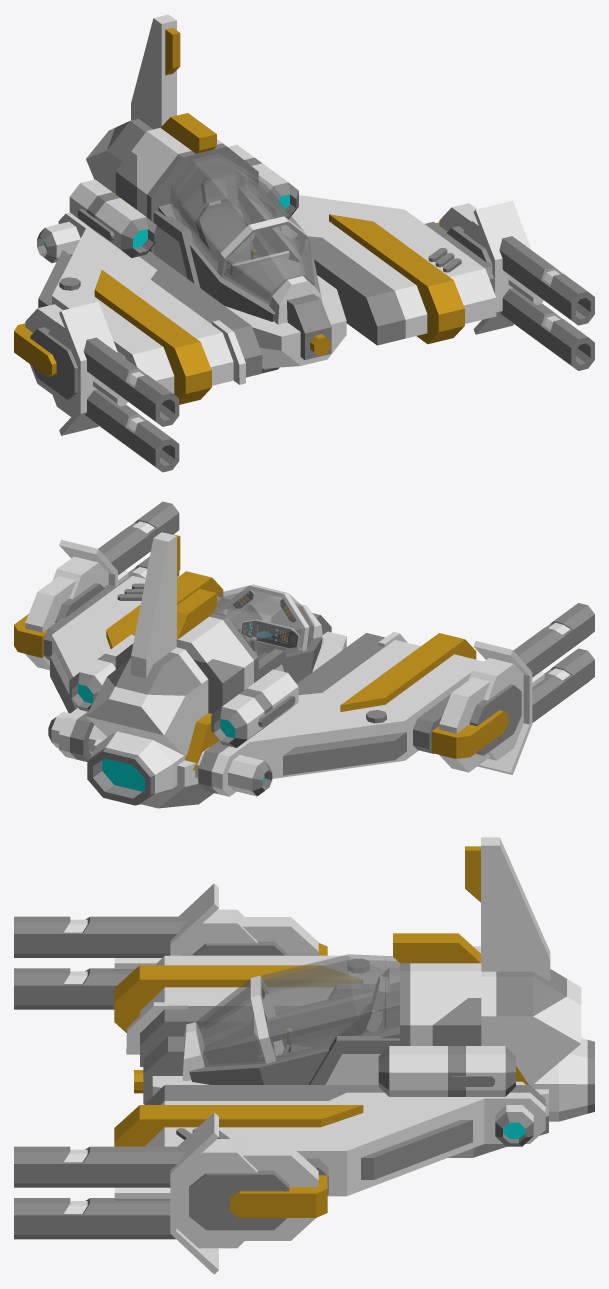
Rendered from SM_SpaceshipS_Assault02.fbx.
3 views of the same model, one above another, from view 1: azimuth 30°, elevation 25°; view 2: azimuth 150°, elevation 25°; view 3: azimuth 270°, elevation 25° (orthographic). The views are drawn at different scales.
Parts seen in each view (by area): view 1: SM_SpaceshipS_Assault02, SM_SpaceshipS_Assault02_R_Cannon, SM_SpaceshipS_Assault02_L_Cannon, SM_SpaceshipS_Assault02_Cockpit; view 2: SM_SpaceshipS_Assault02, SM_SpaceshipS_Assault02_R_Cannon, SM_SpaceshipS_Assault02_L_Cannon, SM_SpaceshipS_Assault02_Cockpit; view 3: SM_SpaceshipS_Assault02, SM_SpaceshipS_Assault02_L_Cannon, SM_SpaceshipS_Assault02_R_Cannon, SM_SpaceshipS_Assault02_Cockpit.
Boxes of the visible parts, x1,y1,x2,y2 form: SM_SpaceshipS_Assault02: [37, 14, 496, 404]; SM_SpaceshipS_Assault02_R_Cannon: [14, 301, 179, 472]; SM_SpaceshipS_Assault02_L_Cannon: [436, 200, 594, 370]; SM_SpaceshipS_Assault02_Cockpit: [173, 157, 303, 268]; SM_SpaceshipS_Assault02: [43, 532, 483, 808]; SM_SpaceshipS_Assault02_R_Cannon: [431, 603, 594, 774]; SM_SpaceshipS_Assault02_L_Cannon: [14, 501, 179, 670]; SM_SpaceshipS_Assault02_Cockpit: [214, 585, 305, 657]; SM_SpaceshipS_Assault02: [114, 837, 594, 1196]; SM_SpaceshipS_Assault02_L_Cannon: [14, 1112, 327, 1274]; SM_SpaceshipS_Assault02_R_Cannon: [14, 883, 327, 1009]; SM_SpaceshipS_Assault02_Cockpit: [260, 954, 385, 1057].
Bounding box in the file's own units: 563 × 326 × 548.
